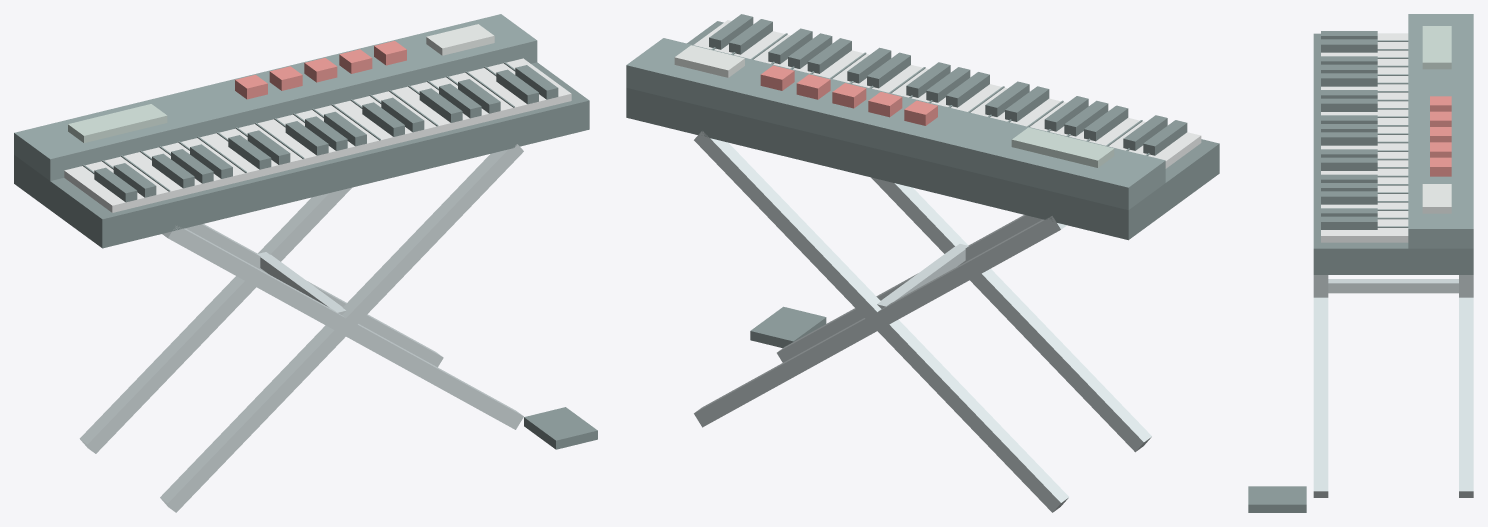
File: keyboardDigital.glb
The picture shows the model from 3 angles, left to right: view 1: azimuth 30°, elevation 25°; view 2: azimuth 150°, elevation 25°; view 3: azimuth 270°, elevation 25°; orthographic projection. The views are drawn at different scales.
Visible parts, largest first — view 1: keyboardDigital; view 2: keyboardDigital; view 3: keyboardDigital.
Boxes of the visible parts, x1,y1,x2,y2 form: keyboardDigital: (14,14,597,512); keyboardDigital: (626,14,1219,512); keyboardDigital: (1248,14,1473,512).
Size of the model in its own units: 0.7 by 0.473 by 0.31.
